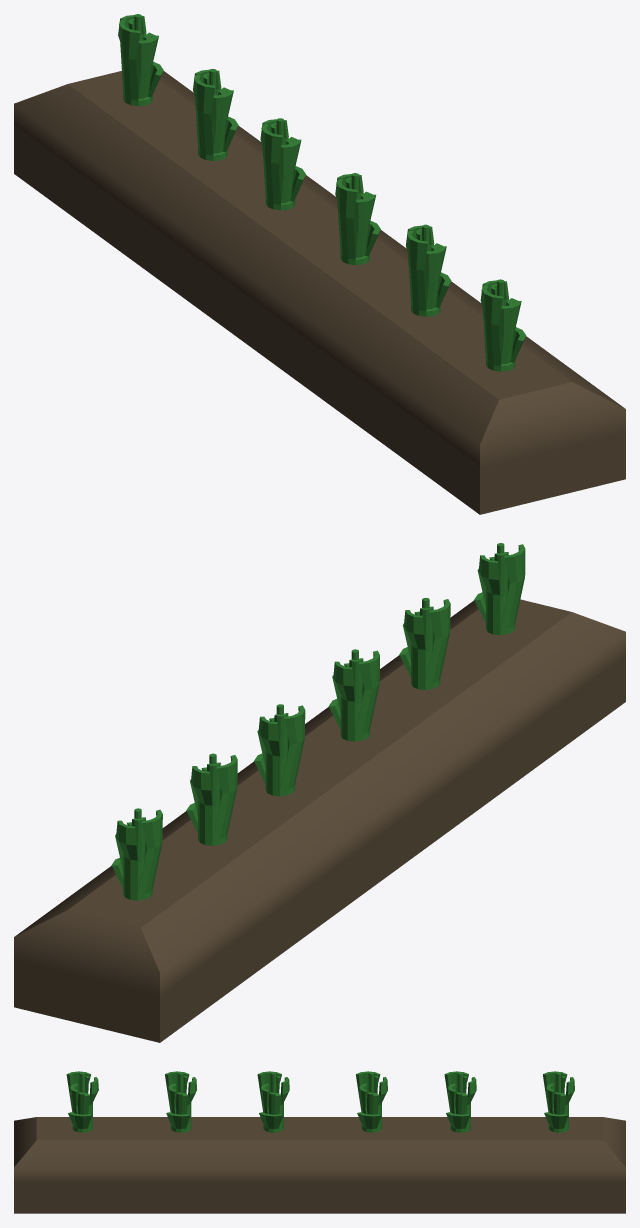
The model's file is garden_sapling.fbx.
The picture shows the model from 3 angles, top to bottom: view 1: azimuth 30°, elevation 25°; view 2: azimuth 150°, elevation 25°; view 3: azimuth 270°, elevation 25°; orthographic projection. The views are drawn at different scales.
Visible parts, largest first — view 1: pCube1, pCylinder4, pCylinder5, pCylinder6, pCylinder1, pCylinder2, pCylinder3; view 2: pCube1, pCylinder1, pCylinder5, pCylinder2, pCylinder4, pCylinder3, pCylinder6; view 3: pCube1, pCylinder2, pCylinder3, pCylinder5, pCylinder1, pCylinder4, pCylinder6.
Part boxes in pixels (x1,y1,x2,y2): pCube1: [14, 71, 625, 514]; pCylinder4: [260, 118, 305, 210]; pCylinder5: [193, 69, 238, 160]; pCylinder6: [118, 14, 163, 106]; pCylinder1: [480, 279, 526, 371]; pCylinder2: [406, 224, 451, 316]; pCylinder3: [335, 173, 380, 265]; pCube1: [14, 599, 625, 1042]; pCylinder1: [474, 543, 525, 635]; pCylinder5: [186, 753, 237, 845]; pCylinder2: [399, 598, 450, 689]; pCylinder4: [254, 704, 305, 796]; pCylinder3: [328, 649, 379, 741]; pCylinder6: [111, 808, 162, 900]; pCube1: [14, 1117, 625, 1213]; pCylinder2: [165, 1071, 196, 1132]; pCylinder3: [257, 1071, 289, 1132]; pCylinder5: [444, 1071, 476, 1132]; pCylinder1: [66, 1071, 98, 1132]; pCylinder4: [356, 1071, 387, 1132]; pCylinder6: [543, 1071, 574, 1132].
Size of the model in its own units: 1.18 by 1.37 by 6.51.
